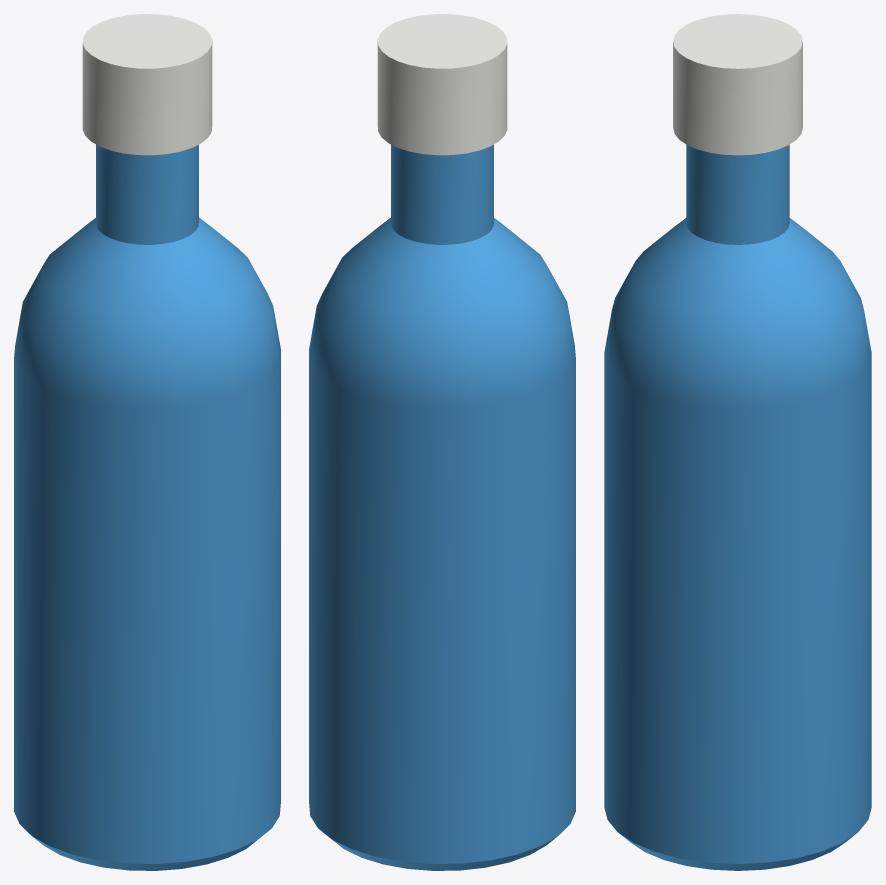
Rendered from water_bottle.glb.
The picture shows the model from 3 angles, left to right: view 1: azimuth 30°, elevation 25°; view 2: azimuth 150°, elevation 25°; view 3: azimuth 270°, elevation 25°; orthographic projection.
Visible parts, largest first — view 1: water_bottle; view 2: water_bottle; view 3: water_bottle.
Boxes of the visible parts, x1,y1,x2,y2 form: water_bottle: (14, 14, 280, 870); water_bottle: (309, 14, 575, 870); water_bottle: (604, 14, 871, 870).
Size of the model in its own units: 0.028 by 0.09 by 0.028.
